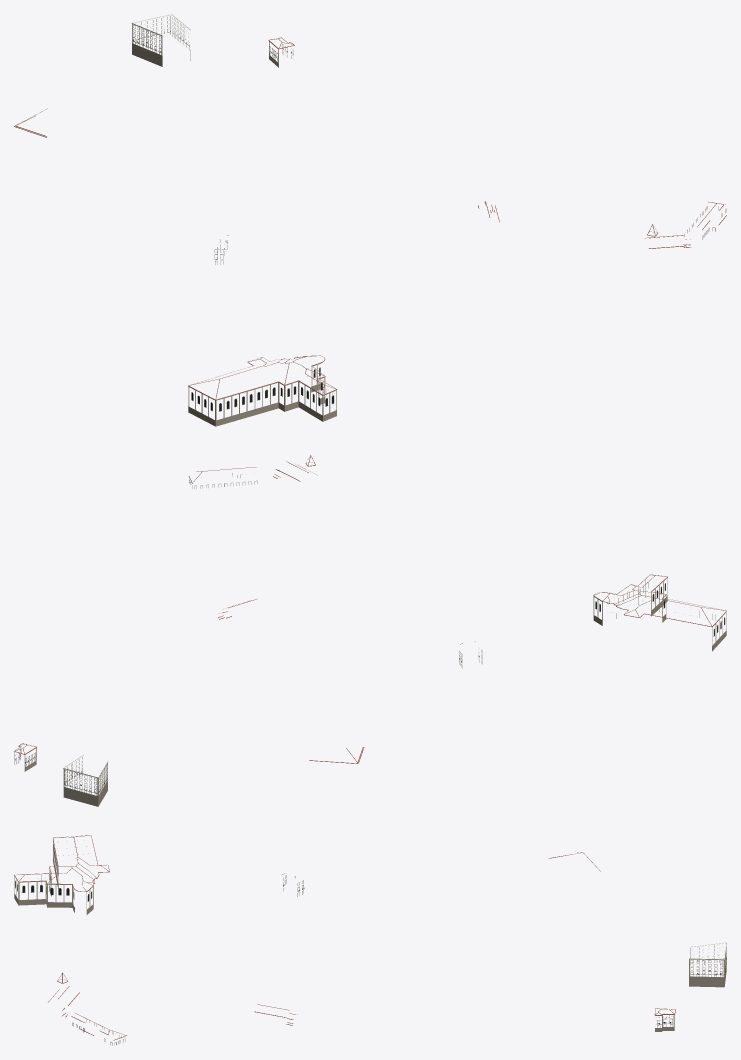
3 views of the same model, one above another, from view 1: azimuth 30°, elevation 25°; view 2: azimuth 150°, elevation 25°; view 3: azimuth 270°, elevation 25° (orthographic). The views are drawn at different scales.
Parts seen in each view (by area): view 1: detail; view 2: detail; view 3: detail.
Part boxes in pixels (x1,y1,x2,y2): detail: [14, 14, 726, 426]; detail: [14, 455, 726, 806]; detail: [14, 835, 726, 1045].
Size of the model in its own units: 367 by 57.54 by 464.
